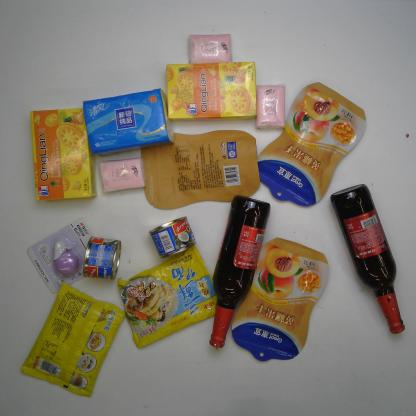Alcohol: (330, 184, 407, 334), (207, 193, 271, 349)
Canned Food: (149, 216, 197, 259), (82, 235, 122, 282)
Dessert: (29, 107, 98, 203), (164, 61, 260, 123)
Dried Fruit: (258, 80, 367, 206), (231, 237, 330, 363), (139, 128, 263, 211)
Instant Noodles: (18, 283, 127, 399), (116, 246, 219, 349)
Stationery: (27, 216, 103, 295)
Tissue: (81, 88, 175, 156), (99, 157, 146, 195), (186, 32, 232, 64), (256, 84, 286, 128)
